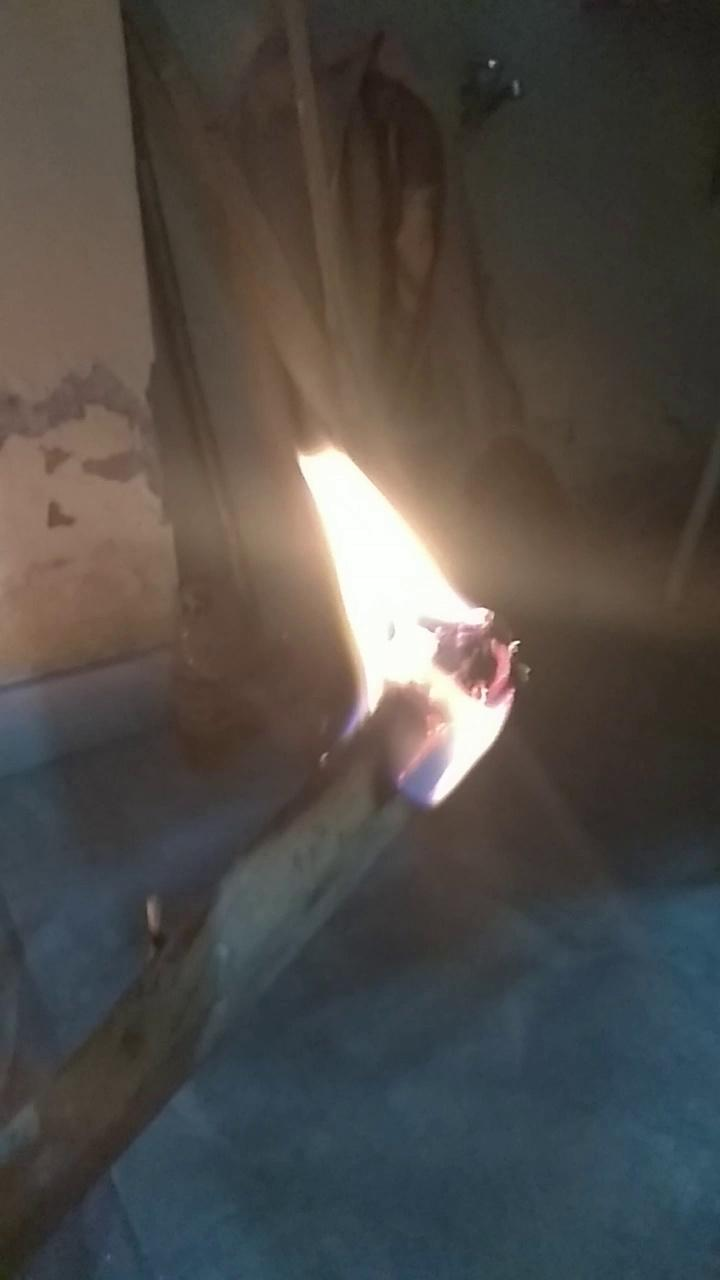fire: (308, 428, 502, 800)
